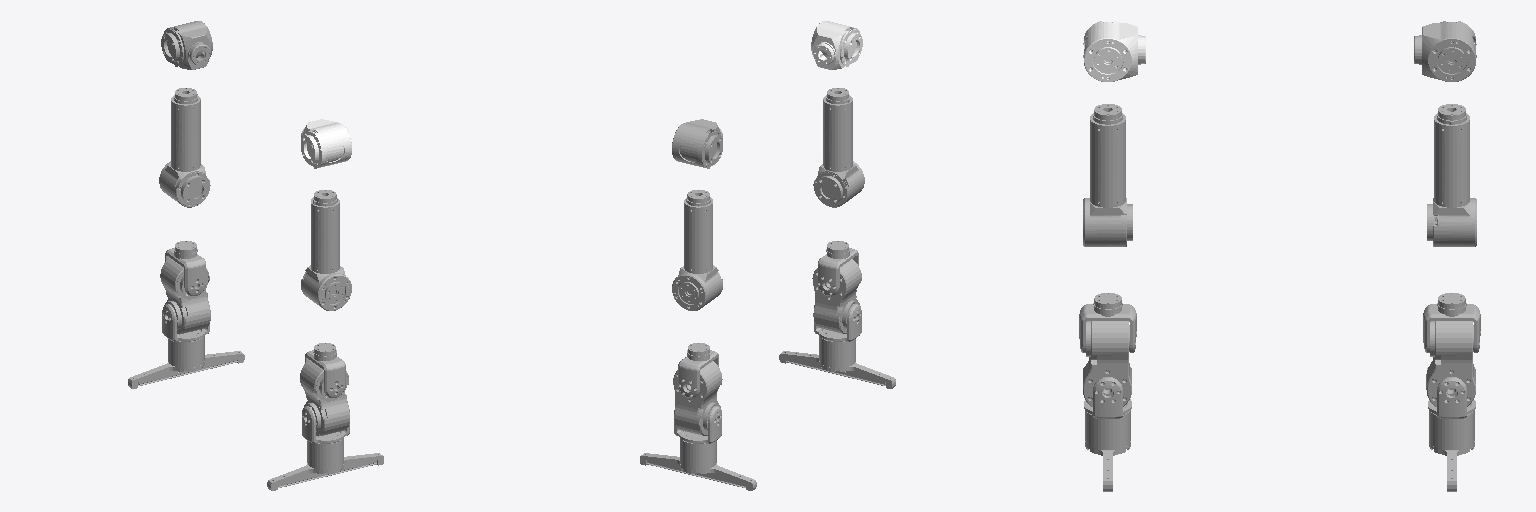
robot.urdf — elf2:
<?xml version="1.0" encoding="utf-8"?>
<robot
  name="elf2">
  <link
    name="base_link">
    <inertial>
      <origin
        xyz="-0.002719 0.001928 0.003917"
        rpy="0 0 0" />
      <mass
        value="8.948443" />
      <inertia
        ixx="0.18746"
        ixy="-0.000182"
        ixz="-0.001384"
        iyy="0.142272"
        iyz="0.000105"
        izz="0.069523" />
    </inertial>
    <visual>
      <origin
        xyz="0 0 0"
        rpy="0 0 0" />
      <geometry>
        <mesh
          filename="../meshes/base_link.STL" />
      </geometry>
      <material
        name="">
        <color
          rgba="0.75294 0.75294 0.75294 1" />
      </material>
    </visual>
    <collision>
      <origin
        xyz="0 0 0"
        rpy="0 0 0" />
      <geometry>
        <mesh
          filename="../meshes/base_link.STL" />
      </geometry>
    </collision>
  </link>
  <link
    name="l_shld_y_link">
    <inertial>
      <origin
        xyz="0.00068297 -0.00449372 2.22e-06"
        rpy="0 0 0" />
      <mass
        value="0.53804971" />
      <inertia
        ixx="0.00030648"
        ixy="4.03e-06"
        ixz="2e-08"
        iyy="0.00029153"
        iyz="1e-07"
        izz="0.00032312" />
    </inertial>
    <visual>
      <origin
        xyz="0 0 0"
        rpy="0 0 0" />
      <geometry>
        <mesh
          filename="../meshes/l_shld_y_link.STL" />
      </geometry>
      <material
        name="">
        <color
          rgba="0.752941176470588 0.752941176470588 0.752941176470588 1" />
      </material>
    </visual>
    <collision>
      <origin
        xyz="0 0 0"
        rpy="0 0 0" />
      <geometry>
        <mesh
          filename="../meshes/l_shld_y_link.STL" />
      </geometry>
    </collision>
  </link>
  <joint
    name="l_shld_y_joint"
    type="revolute">
    <origin
      xyz="0 0.21705 0.09205"
      rpy="0 0 0" />
    <parent
      link="base_link" />
    <child
      link="l_shld_y_link" />
    <axis
      xyz="0 1 0" />
    <limit
      lower="-2"
      upper="2"
      effort="27"
      velocity="20" />
  </joint>
  <link
    name="l_shld_x_link">
    <inertial>
      <origin
        xyz="-2.047e-05 5.316e-05 -0.06162654"
        rpy="0 0 0" />
      <mass
        value="0.48847489" />
      <inertia
        ixx="0.00027194"
        ixy="4e-08"
        ixz="-5.4e-07"
        iyy="0.00033709"
        iyz="-5.4e-07"
        izz="0.0002884" />
    </inertial>
    <visual>
      <origin
        xyz="0 0 0"
        rpy="0 0 0" />
      <geometry>
        <mesh
          filename="../meshes/l_shld_x_link.STL" />
      </geometry>
      <material
        name="">
        <color
          rgba="0.752941176470588 0.752941176470588 0.752941176470588 1" />
      </material>
    </visual>
    <collision>
      <origin
        xyz="0 0 0"
        rpy="0 0 0" />
      <geometry>
        <mesh
          filename="../meshes/l_shld_x_link.STL" />
      </geometry>
    </collision>
  </link>
  <joint
    name="l_shld_x_joint"
    type="revolute">
    <origin
      xyz="0 0 0"
      rpy="0 0 0" />
    <parent
      link="l_shld_y_link" />
    <child
      link="l_shld_x_link" />
    <axis
      xyz="1 0 0" />
    <limit
      lower="-0.5"
      upper="1.57"
      effort="27"
      velocity="20" />
  </joint>
  <link
    name="l_shld_z_link">
    <inertial>
      <origin
        xyz="4.164e-05 0.00022669 -0.2212782"
        rpy="0 0 0" />
      <mass
        value="0.59309528" />
      <inertia
        ixx="0.00136573"
        ixy="5.3e-07"
        ixz="-1e-08"
        iyy="0.00133989"
        iyz="1.22e-06"
        izz="0.00030342" />
    </inertial>
    <visual>
      <origin
        xyz="0 0 0"
        rpy="0 0 0" />
      <geometry>
        <mesh
          filename="../meshes/l_shld_z_link.STL" />
      </geometry>
      <material
        name="">
        <color
          rgba="0.752941176470588 0.752941176470588 0.752941176470588 1" />
      </material>
    </visual>
    <collision>
      <origin
        xyz="0 0 0"
        rpy="0 0 0" />
      <geometry>
        <mesh
          filename="../meshes/l_shld_z_link.STL" />
      </geometry>
    </collision>
  </link>
  <joint
    name="l_shld_z_joint"
    type="revolute">
    <origin
      xyz="0 0 0"
      rpy="0 0 0" />
    <parent
      link="l_shld_x_link" />
    <child
      link="l_shld_z_link" />
    <axis
      xyz="0 0 1" />
    <limit
      lower="-1.57"
      upper="1.57"
      effort="7"
      velocity="20" />
  </joint>
  <link
    name="l_elb_y_link">
    <inertial>
      <origin
        xyz="5.192e-05 1.999e-05 -0.08561189"
        rpy="0 0 0" />
      <mass
        value="0.50005725" />
      <inertia
        ixx="0.00043713"
        ixy="-4e-08"
        ixz="-4.9e-07"
        iyy="0.00036043"
        iyz="6.3e-07"
        izz="0.00030266" />
    </inertial>
    <visual>
      <origin
        xyz="0 0 0"
        rpy="0 0 0" />
      <geometry>
        <mesh
          filename="../meshes/l_elb_y_link.STL" />
      </geometry>
      <material
        name="">
        <color
          rgba="0.752941176470588 0.752941176470588 0.752941176470588 1" />
      </material>
    </visual>
    <collision>
      <origin
        xyz="0 0 0"
        rpy="0 0 0" />
      <geometry>
        <mesh
          filename="../meshes/l_elb_y_link.STL" />
      </geometry>
    </collision>
  </link>
  <joint
    name="l_elb_y_joint"
    type="revolute">
    <origin
      xyz="0 0 -0.24"
      rpy="0 0 0" />
    <parent
      link="l_shld_z_link" />
    <child
      link="l_elb_y_link" />
    <axis
      xyz="0 1 0" />
    <limit
      lower="-2.355"
      upper="0.5"
      effort="27"
      velocity="20" />
  </joint>
  <link
    name="l_elb_z_link">
    <inertial>
      <origin
        xyz="0 0 0"
        rpy="0 0 0" />
      <mass
        value="0.13457416" />
      <inertia
        ixx="0.00040001"
        ixy="-0.0"
        ixz="-2e-08"
        iyy="0.00039996"
        iyz="1.5e-07"
        izz="5.662e-05" />
    </inertial>
    <visual>
      <origin
        xyz="0 0 0"
        rpy="3.1415926 0 1.5707963" />
      <geometry>
        <mesh
          filename="../meshes/elb_z_link.STL" />
      </geometry>
      <material
        name="">
        <color
          rgba="0.752941176470588 0.752941176470588 0.752941176470588 1" />
      </material>
    </visual>
    <collision>
      <origin
        xyz="0 0 0"
        rpy="3.1415926 0 1.5707963" />
      <geometry>
        <mesh
          filename="../meshes/elb_z_link.STL" />
      </geometry>
    </collision>
  </link>
  <joint
    name="l_elb_z_joint"
    type="revolute">
    <origin
      xyz="0 0 -0.12"
      rpy="0 0 0" />
    <parent
      link="l_elb_y_link" />
    <child
      link="l_elb_z_link" />
    <axis
      xyz="0 0 1" />
    <limit
      lower="-0.785"
      upper="0.785"
      effort="7"
      velocity="20" />
  </joint>
  <link
    name="l_wrist_y_link">
    <inertial>
      <origin
        xyz="0 0 0"
        rpy="0 0 0" />
      <mass
        value="0.13457416" />
      <inertia
        ixx="0.00040001"
        ixy="-0.0"
        ixz="-2e-08"
        iyy="0.00039996"
        iyz="1.5e-07"
        izz="5.662e-05" />
    </inertial>
    <visual>
      <origin
        xyz="0 0 0"
        rpy="0 -1.5707963 -1.5707963" />
      <geometry>
        <mesh
          filename="../meshes/wrist_y_link.STL" />
      </geometry>
      <material
        name="">
        <color
          rgba="0.752941176470588 0.752941176470588 0.752941176470588 1" />
      </material>
    </visual>
    <collision>
      <origin
        xyz="0 0 0"
        rpy="0 -1.5707963 -1.5707963" />
      <geometry>
        <mesh
          filename="../meshes/wrist_y_link.STL" />
      </geometry>
    </collision>
  </link>
  <joint
    name="l_wrist_y_joint"
    type="revolute">
    <origin
      xyz="0 0 -0.0415"
      rpy="0 0 0" />
    <parent
      link="l_elb_z_link" />
    <child
      link="l_wrist_y_link" />
    <axis
      xyz="0 1 0" />
    <limit
      lower="-0.785"
      upper="0.785"
      effort="7"
      velocity="20" />
  </joint>
  <link
    name="l_wrist_x_link">
    <inertial>
      <origin
        xyz="0 0 0"
        rpy="0 0 0" />
      <mass
        value="0.13457416" />
      <inertia
        ixx="0.00040001"
        ixy="-0.0"
        ixz="-2e-08"
        iyy="0.00039996"
        iyz="1.5e-07"
        izz="5.662e-05" />
    </inertial>
    <visual>
      <origin
        xyz="0 0 0"
        rpy="1.5707963 0 1.5707963" />
      <geometry>
        <mesh
          filename="../meshes/wrist_x_link.STL" />
      </geometry>
      <material
        name="">
        <color
          rgba="0.752941176470588 0.752941176470588 0.752941176470588 1" />
      </material>
    </visual>
    <collision>
      <origin
        xyz="0 0 0"
        rpy="1.5707963 0 1.5707963" />
      <geometry>
        <mesh
          filename="../meshes/wrist_x_link.STL" />
      </geometry>
    </collision>
  </link>
  <joint
    name="l_wrist_x_joint"
    type="revolute">
    <origin
      xyz="0 0 -0.059"
      rpy="0 0 0" />
    <parent
      link="l_wrist_y_link" />
    <child
      link="l_wrist_x_link" />
    <axis
      xyz="1 0 0" />
    <limit
      lower="-0.785"
      upper="0.785"
      effort="7"
      velocity="20" />
  </joint>
  <link
    name="r_shld_y_link">
    <inertial>
      <origin
        xyz="0.00068297 0.00449372 -2.22e-06"
        rpy="0 0 0" />
      <mass
        value="0.53804971" />
      <inertia
        ixx="0.00030648"
        ixy="-4.03e-06"
        ixz="-2e-08"
        iyy="0.00029153"
        iyz="1e-07"
        izz="0.00032312" />
    </inertial>
    <visual>
      <origin
        xyz="0 0 0"
        rpy="0 0 0" />
      <geometry>
        <mesh
          filename="../meshes/r_shld_y_link.STL" />
      </geometry>
      <material
        name="">
        <color
          rgba="1 1 1 1" />
      </material>
    </visual>
    <collision>
      <origin
        xyz="0 0 0"
        rpy="0 0 0" />
      <geometry>
        <mesh
          filename="../meshes/r_shld_y_link.STL" />
      </geometry>
    </collision>
  </link>
  <joint
    name="r_shld_y_joint"
    type="revolute">
    <origin
      xyz="0 -0.21705 0.09205"
      rpy="0 0 0" />
    <parent
      link="base_link" />
    <child
      link="r_shld_y_link" />
    <axis
      xyz="0 1 0" />
    <limit
      lower="-2"
      upper="2"
      effort="27"
      velocity="20" />
  </joint>
  <link
    name="r_shld_x_link">
    <inertial>
      <origin
        xyz="2.047e-05 -5.316e-05 -0.06162654"
        rpy="0 0 0" />
      <mass
        value="0.48847489" />
      <inertia
        ixx="0.00027194"
        ixy="4e-08"
        ixz="5.4e-07"
        iyy="0.00033709"
        iyz="5.4e-07"
        izz="0.0002884" />
    </inertial>
    <visual>
      <origin
        xyz="0 0 0"
        rpy="0 0 0" />
      <geometry>
        <mesh
          filename="../meshes/r_shld_x_link.STL" />
      </geometry>
      <material
        name="">
        <color
          rgba="0.752941176470588 0.752941176470588 0.752941176470588 1" />
      </material>
    </visual>
    <collision>
      <origin
        xyz="0 0 0"
        rpy="0 0 0" />
      <geometry>
        <mesh
          filename="../meshes/r_shld_x_link.STL" />
      </geometry>
    </collision>
  </link>
  <joint
    name="r_shld_x_joint"
    type="revolute">
    <origin
      xyz="0 0 0"
      rpy="0 0 0" />
    <parent
      link="r_shld_y_link" />
    <child
      link="r_shld_x_link" />
    <axis
      xyz="1 0 0" />
    <limit
      lower="-1.57"
      upper="0.5"
      effort="27"
      velocity="20" />
  </joint>
  <link
    name="r_shld_z_link">
    <inertial>
      <origin
        xyz="-4.164e-05 -0.00022669 -0.2212782"
        rpy="0 0 0" />
      <mass
        value="0.59309528" />
      <inertia
        ixx="0.00136573"
        ixy="5.3e-07"
        ixz="1e-08"
        iyy="0.00133989"
        iyz="-1.22e-06"
        izz="0.00030342" />
    </inertial>
    <visual>
      <origin
        xyz="0 0 0"
        rpy="0 0 0" />
      <geometry>
        <mesh
          filename="../meshes/r_shld_z_link.STL" />
      </geometry>
      <material
        name="">
        <color
          rgba="0.752941176470588 0.752941176470588 0.752941176470588 1" />
      </material>
    </visual>
    <collision>
      <origin
        xyz="0 0 0"
        rpy="0 0 0" />
      <geometry>
        <mesh
          filename="../meshes/r_shld_z_link.STL" />
      </geometry>
    </collision>
  </link>
  <joint
    name="r_shld_z_joint"
    type="revolute">
    <origin
      xyz="0 0 0"
      rpy="0 0 0" />
    <parent
      link="r_shld_x_link" />
    <child
      link="r_shld_z_link" />
    <axis
      xyz="0 0 1" />
    <limit
      lower="-1.57"
      upper="1.57"
      effort="7"
      velocity="20" />
  </joint>
  <link
    name="r_elb_y_link">
    <inertial>
      <origin
        xyz="-5.192e-05 -1.999e-05 -0.08561189"
        rpy="0 0 0" />
      <mass
        value="0.50005725" />
      <inertia
        ixx="0.00043713"
        ixy="-4e-08"
        ixz="4.9e-07"
        iyy="0.00036043"
        iyz="-6.3e-07"
        izz="0.00030266" />
    </inertial>
    <visual>
      <origin
        xyz="0 0 0"
        rpy="0 0 0" />
      <geometry>
        <mesh
          filename="../meshes/r_elb_y_link.STL" />
      </geometry>
      <material
        name="">
        <color
          rgba="0.752941176470588 0.752941176470588 0.752941176470588 1" />
      </material>
    </visual>
    <collision>
      <origin
        xyz="0 0 0"
        rpy="0 0 0" />
      <geometry>
        <mesh
          filename="../meshes/r_elb_y_link.STL" />
      </geometry>
    </collision>
  </link>
  <joint
    name="r_elb_y_joint"
    type="revolute">
    <origin
      xyz="0 0 -0.24"
      rpy="0 0 0" />
    <parent
      link="r_shld_z_link" />
    <child
      link="r_elb_y_link" />
    <axis
      xyz="0 1 0" />
    <limit
      lower="-2.355"
      upper="0.5"
      effort="27"
      velocity="20" />
  </joint>
  <link
    name="r_elb_z_link">
    <inertial>
      <origin
        xyz="0 0 0"
        rpy="0 0 0" />
      <mass
        value="0.13457416" />
      <inertia
        ixx="0.00040001"
        ixy="-0.0"
        ixz="-2e-08"
        iyy="0.00039996"
        iyz="1.5e-07"
        izz="5.662e-05" />
    </inertial>
    <visual>
      <origin
        xyz="0 0 0"
        rpy="3.1415926 0 1.5707963" />
      <geometry>
        <mesh
          filename="../meshes/elb_z_link.STL" />
      </geometry>
      <material
        name="">
        <color
          rgba="0.752941176470588 0.752941176470588 0.752941176470588 1" />
      </material>
    </visual>
    <collision>
      <origin
        xyz="0 0 0"
        rpy="3.1415926 0 1.5707963" />
      <geometry>
        <mesh
          filename="../meshes/elb_z_link.STL" />
      </geometry>
    </collision>
  </link>
  <joint
    name="r_elb_z_joint"
    type="revolute">
    <origin
      xyz="0 0 -0.12"
      rpy="0 0 0" />
    <parent
      link="r_elb_y_link" />
    <child
      link="r_elb_z_link" />
    <axis
      xyz="0 0 1" />
    <limit
      lower="-0.785"
      upper="0.785"
      effort="7"
      velocity="20" />
  </joint>
  <link
    name="r_wrist_y_link">
    <inertial>
      <origin
        xyz="0 0 0"
        rpy="0 0 0" />
      <mass
        value="0.13457416" />
      <inertia
        ixx="0.00040001"
        ixy="-0.0"
        ixz="-2e-08"
        iyy="0.00039996"
        iyz="1.5e-07"
        izz="5.662e-05" />
    </inertial>
    <visual>
      <origin
        xyz="0 0 0"
        rpy="0 -1.5707963 -1.5707963" />
      <geometry>
        <mesh
          filename="../meshes/wrist_y_link.STL" />
      </geometry>
      <material
        name="">
        <color
          rgba="0.752941176470588 0.752941176470588 0.752941176470588 1" />
      </material>
    </visual>
    <collision>
      <origin
        xyz="0 0 0"
        rpy="0 -1.5707963 -1.5707963" />
      <geometry>
        <mesh
          filename="../meshes/wrist_y_link.STL" />
      </geometry>
    </collision>
  </link>
  <joint
    name="r_wrist_y_joint"
    type="revolute">
    <origin
      xyz="0 0 -0.0415"
      rpy="0 0 0" />
    <parent
      link="r_elb_z_link" />
    <child
      link="r_wrist_y_link" />
    <axis
      xyz="0 1 0" />
    <limit
      lower="-0.785"
      upper="0.785"
      effort="7"
      velocity="20" />
  </joint>
  <link
    name="r_wrist_x_link">
    <inertial>
      <origin
        xyz="0 0 0"
        rpy="0 0 0" />
      <mass
        value="0.13457416" />
      <inertia
        ixx="0.00040001"
        ixy="-0.0"
        ixz="-2e-08"
        iyy="0.00039996"
        iyz="1.5e-07"
        izz="5.662e-05" />
    </inertial>
    <visual>
      <origin
        xyz="0 0 0"
        rpy="1.5707963 0 1.5707963" />
      <geometry>
        <mesh
          filename="../meshes/wrist_x_link.STL" />
      </geometry>
      <material
        name="">
        <color
          rgba="0.752941176470588 0.752941176470588 0.752941176470588 1" />
      </material>
    </visual>
    <collision>
      <origin
        xyz="0 0 0"
        rpy="1.5707963 0 1.5707963" />
      <geometry>
        <mesh
          filename="../meshes/wrist_x_link.STL" />
      </geometry>
    </collision>
  </link>
  <joint
    name="r_wrist_x_joint"
    type="revolute">
    <origin
      xyz="0 0 -0.059"
      rpy="0 0 0" />
    <parent
      link="r_wrist_y_link" />
    <child
      link="r_wrist_x_link" />
    <axis
      xyz="1 0 0" />
    <limit
      lower="-0.785"
      upper="0.785"
      effort="7"
      velocity="20" />
  </joint>
</robot>

--- Render facts (derived) ---
The picture shows the robot from 3 angles, left to right: view 1: azimuth 30°, elevation 25°; view 2: azimuth 150°, elevation 25°; view 3: azimuth 270°, elevation 25°; orthographic projection.
Robot: elf2 — 15 links, 14 joints (14 revolute); root link base_link; default pose: all joints at 0.
Visible links, largest first — view 1: l_shld_z_link, r_shld_z_link, l_wrist_x_link, r_wrist_x_link, r_wrist_y_link, l_wrist_y_link, r_shld_y_link, l_shld_y_link, l_elb_z_link, r_elb_z_link; view 2: r_shld_z_link, l_shld_z_link, r_wrist_x_link, l_wrist_x_link, l_wrist_y_link, r_wrist_y_link, l_shld_y_link, r_shld_y_link, r_elb_z_link, l_elb_z_link; view 3: l_shld_z_link, r_shld_z_link, r_wrist_x_link, l_wrist_x_link, r_shld_y_link, l_shld_y_link, l_wrist_y_link, r_wrist_y_link, l_elb_z_link, r_elb_z_link.
Link boxes in pixels (x1,y1,x2,y2): l_shld_z_link: (159, 88, 210, 207); r_shld_z_link: (301, 190, 351, 310); l_wrist_x_link: (128, 304, 244, 388); r_wrist_x_link: (267, 406, 383, 490); r_wrist_y_link: (300, 360, 349, 436); l_wrist_y_link: (160, 258, 210, 334); r_shld_y_link: (301, 119, 351, 168); l_shld_y_link: (161, 21, 212, 69); l_elb_z_link: (165, 241, 205, 295); r_elb_z_link: (305, 343, 345, 397); r_shld_z_link: (813, 88, 864, 207); l_shld_z_link: (672, 190, 722, 310); r_wrist_x_link: (779, 304, 895, 388); l_wrist_x_link: (640, 406, 756, 490); l_wrist_y_link: (673, 361, 722, 435); r_wrist_y_link: (812, 259, 861, 333); l_shld_y_link: (672, 119, 722, 168); r_shld_y_link: (811, 21, 862, 69); r_elb_z_link: (818, 241, 858, 295); l_elb_z_link: (678, 343, 718, 397); l_shld_z_link: (1427, 104, 1476, 246); r_shld_z_link: (1083, 104, 1132, 246); r_wrist_x_link: (1084, 377, 1131, 491); l_wrist_x_link: (1428, 377, 1475, 491); r_shld_y_link: (1083, 21, 1145, 81); l_shld_y_link: (1414, 21, 1476, 81); l_wrist_y_link: (1426, 321, 1475, 406); r_wrist_y_link: (1083, 321, 1131, 406); l_elb_z_link: (1423, 293, 1480, 352); r_elb_z_link: (1079, 293, 1136, 352).
Size in the robot's own frame: 0.2036 by 0.5065 by 0.599 metres.
10 mesh visuals loaded from 12 distinct referenced files (7 binary STL); not drawn: 5 (reference not matched to a file when rendering).